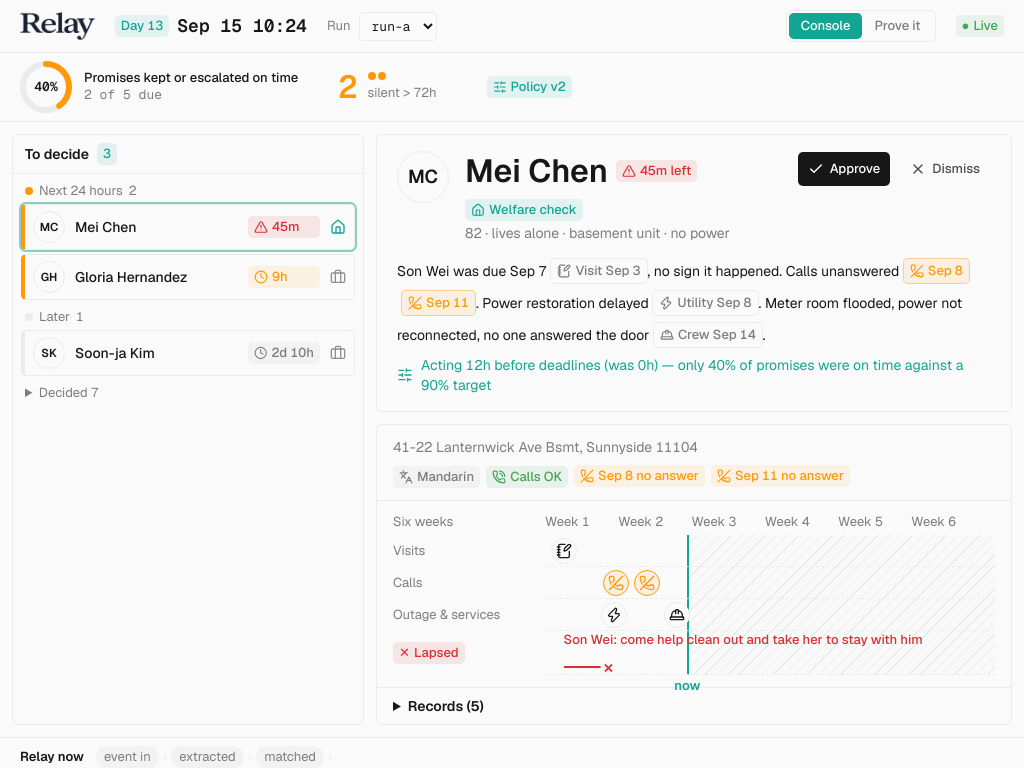
Test: live console: decisions › shows a backend rejection and keeps the proposal pending
Click the button "Approve". click: point(844, 169)
box: [797,151,891,187]
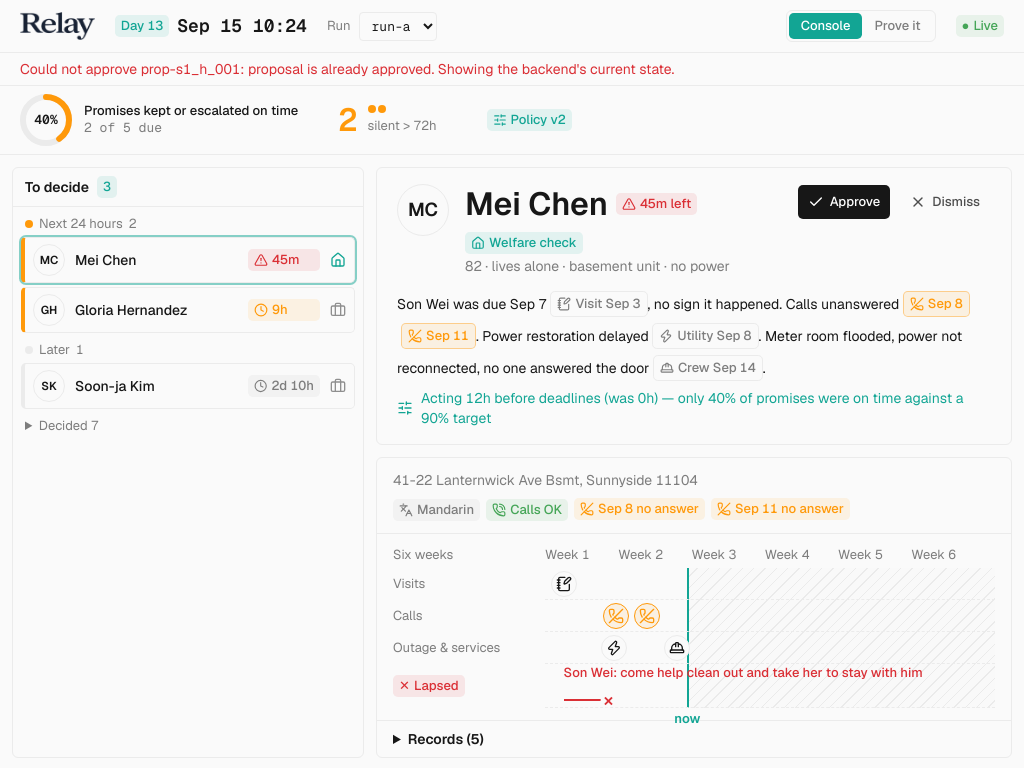
Check: the message shows "proposal is already approved", box [20,60,674,78]
